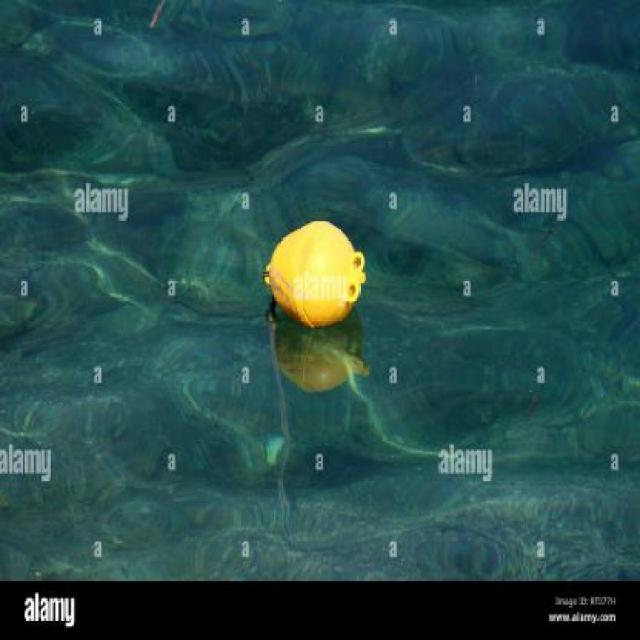a: (260, 201, 379, 327)
